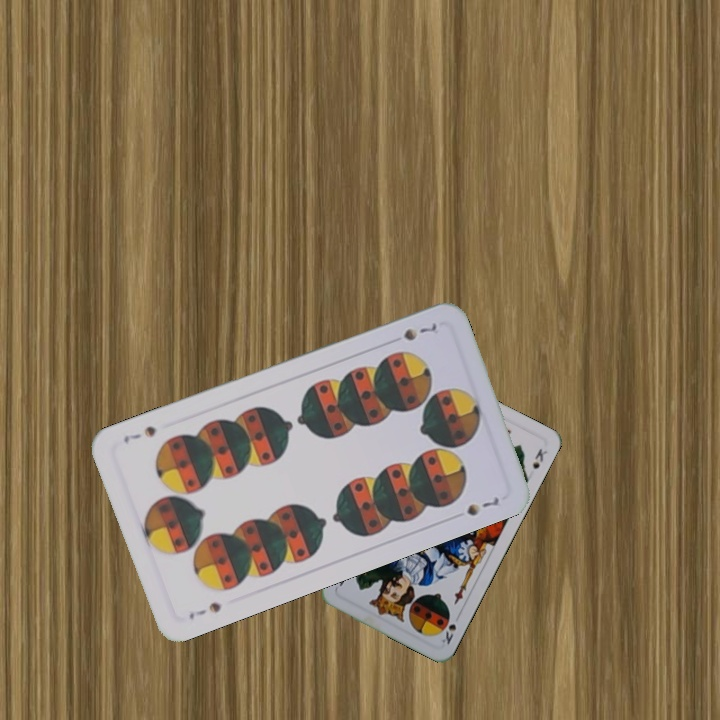S7: (399, 319, 440, 344), (185, 598, 224, 622)
SK: (437, 610, 463, 647)
